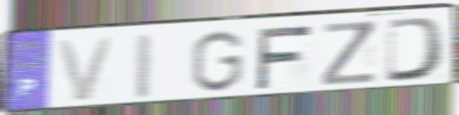D: (383, 15, 450, 84)
F: (254, 23, 315, 92)
G: (187, 28, 248, 94)
I: (131, 32, 157, 102)
V: (54, 34, 118, 104)
Z: (320, 18, 380, 88)
